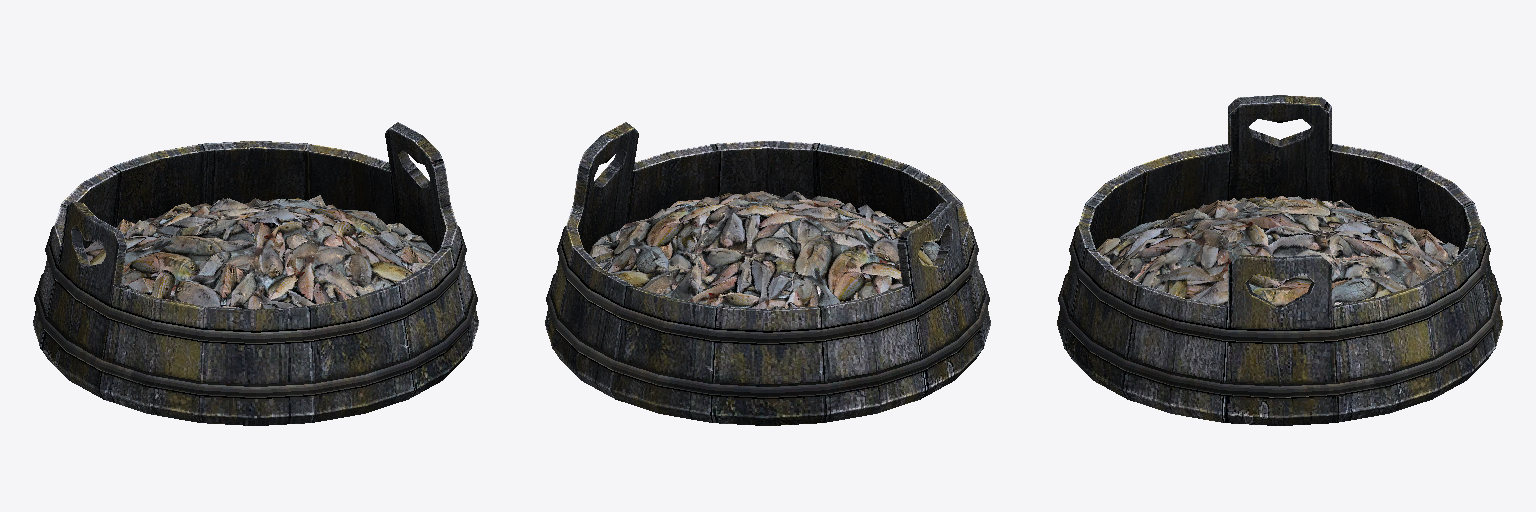
The picture shows the model from 3 angles: view 1: azimuth 30°, elevation 25°; view 2: azimuth 150°, elevation 25°; view 3: azimuth 270°, elevation 25°; orthographic projection.
Visible parts, largest first — view 1: fish_bowl; view 2: fish_bowl; view 3: fish_bowl.
Boxes of the visible parts, x1,y1,x2,y2 form: fish_bowl: [33, 122, 478, 425]; fish_bowl: [545, 122, 990, 425]; fish_bowl: [1057, 95, 1502, 425].
Size of the model in its own units: 41.99 by 16.39 by 41.99.
Materials: 2 (2 with a texture image).